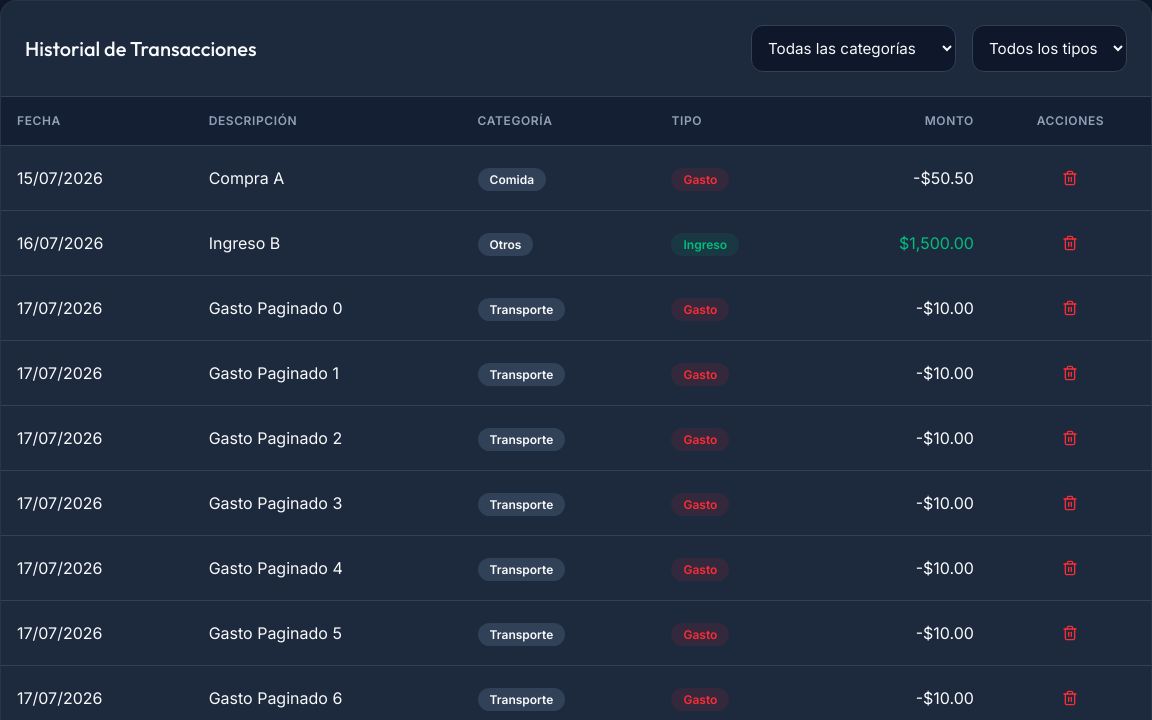
Scenario: TransactionTable component › should apply filters correctly and display clear button
This screenshot has width=1152, height=720.
Select "Comida" in the 1st dropdown at (854, 48), box [751,25,956,72]
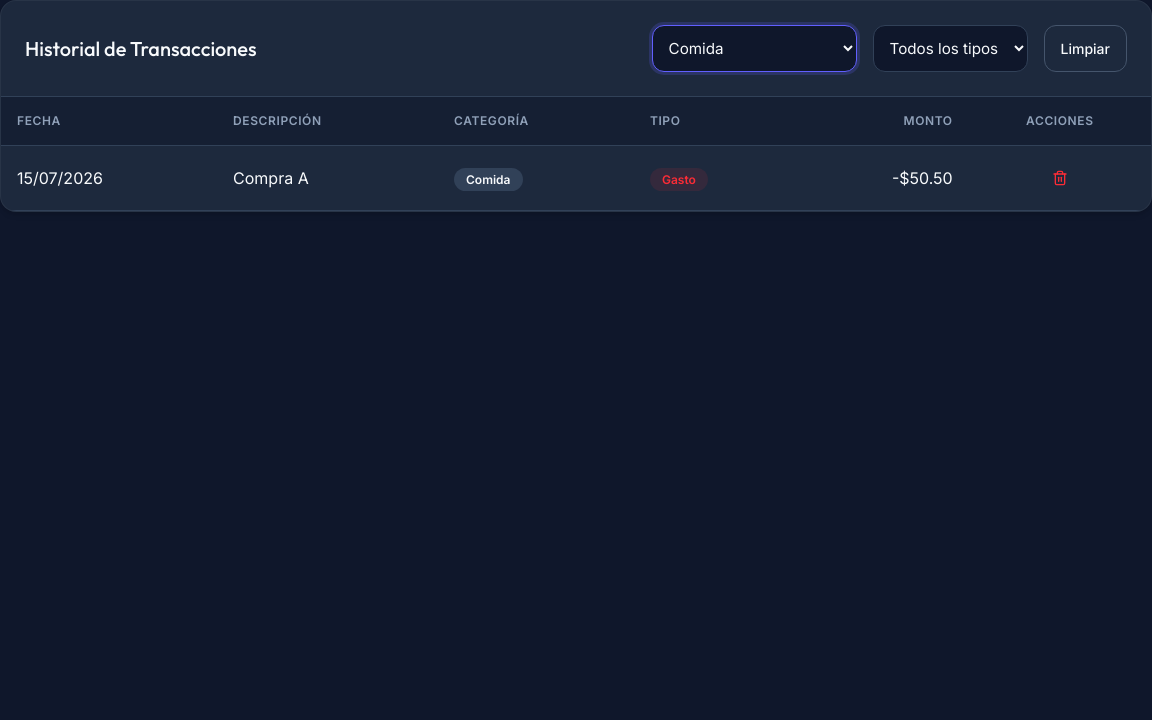
Expected: the text "Compra A" is shown, [217,146,438,210]
Expected: the text "Ingreso B" is gone
# Verify clear button is rendered and works
Click the button "Limpiar".
click(1085, 48)  # box [1044,25,1127,72]
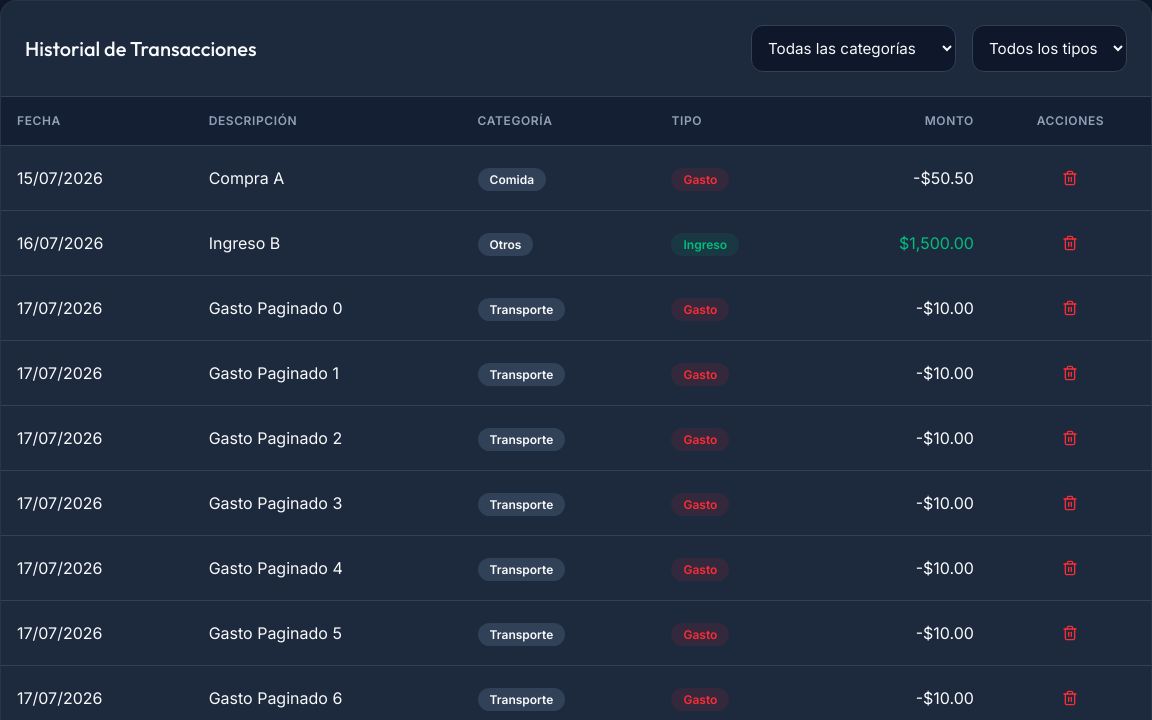
Expected: the text "Compra A" is shown, [193,146,462,210]
Expected: the text "Ingreso B" is shown, [193,210,462,276]
